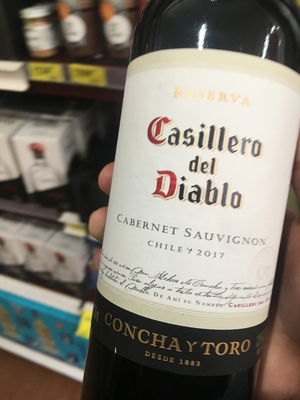casillero del diablo cabernet sauvignon: (89, 18, 296, 400)
